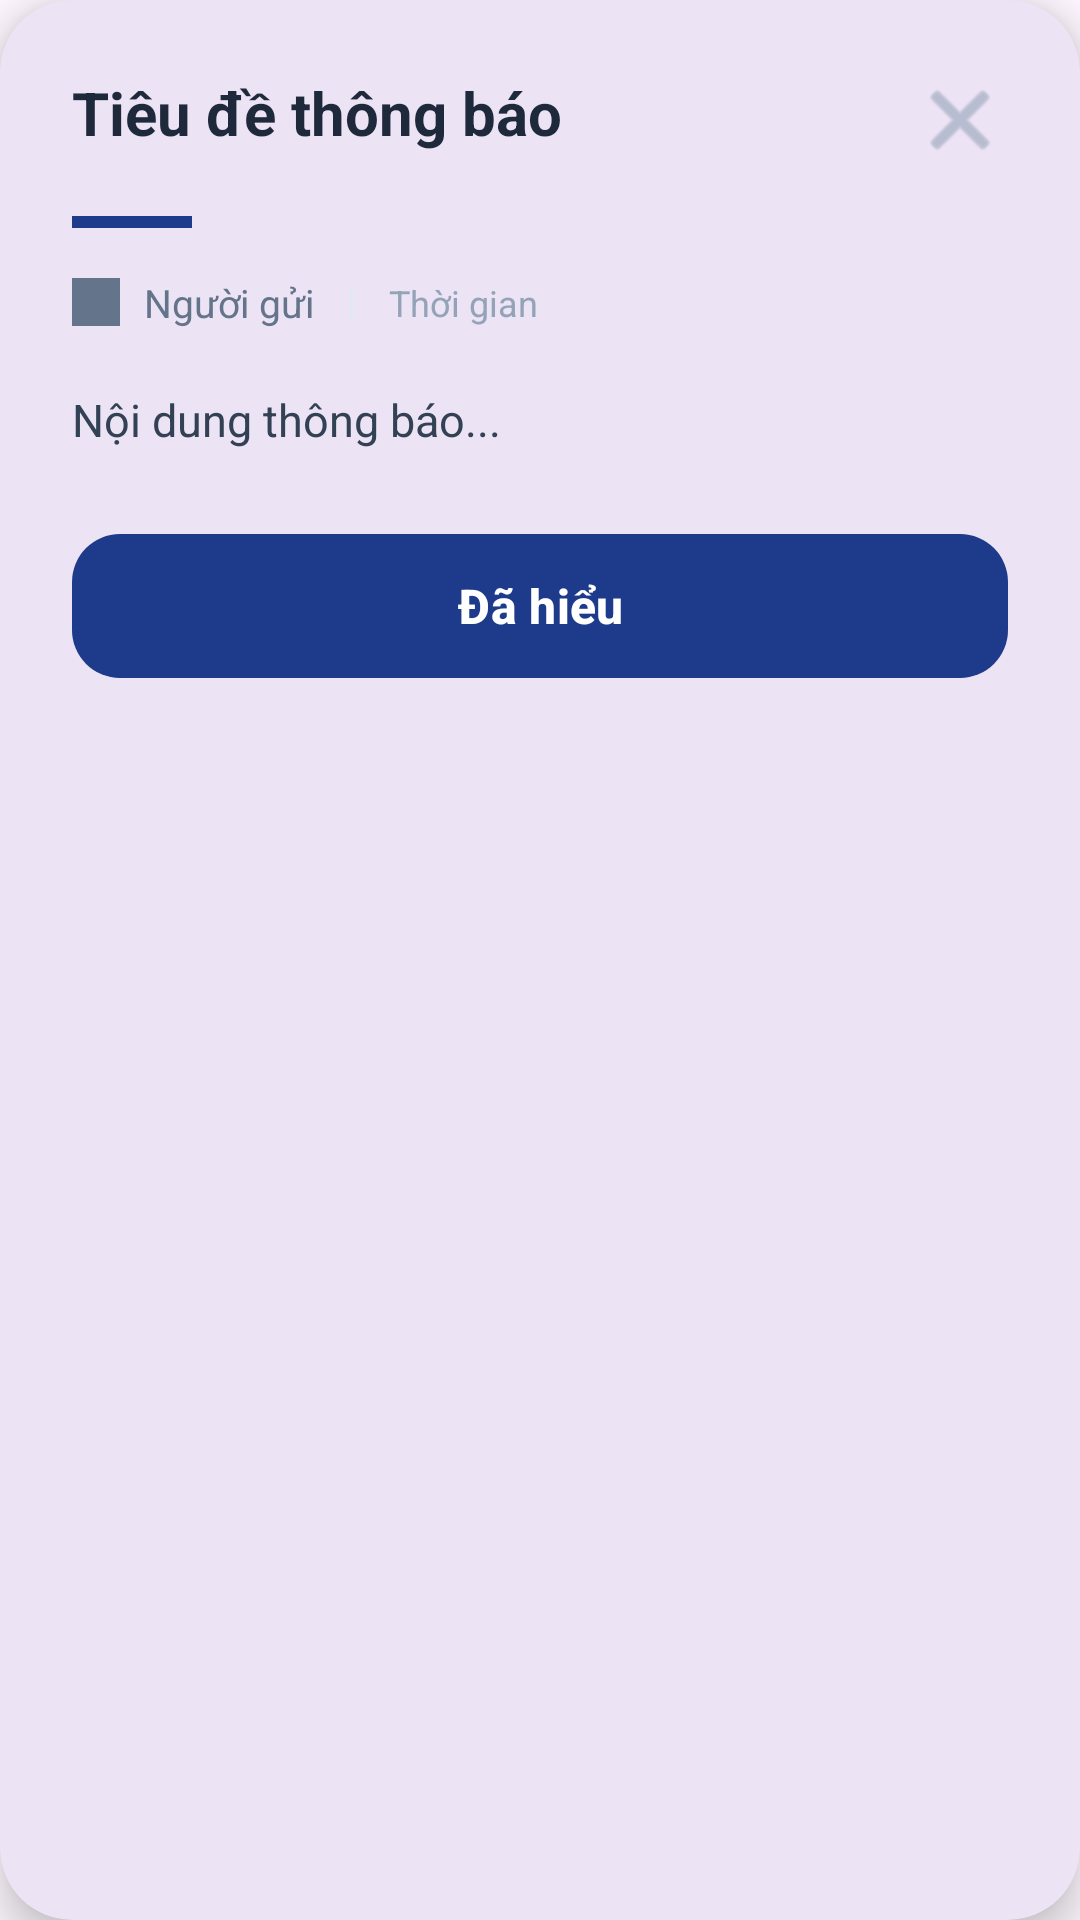

Where to tap for icons on this 1080px×1920px app screen, as (x,y):
close clear cancel: (960,120)
